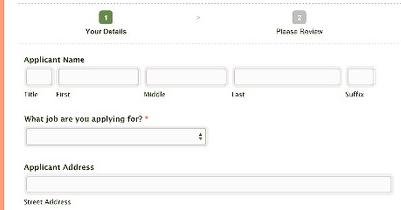field: (23, 172, 394, 197), (25, 127, 207, 148), (233, 66, 343, 87), (58, 66, 141, 87), (143, 65, 228, 85), (22, 67, 54, 86), (346, 67, 376, 87)
field_with_label: (20, 163, 396, 199), (24, 114, 210, 151)
